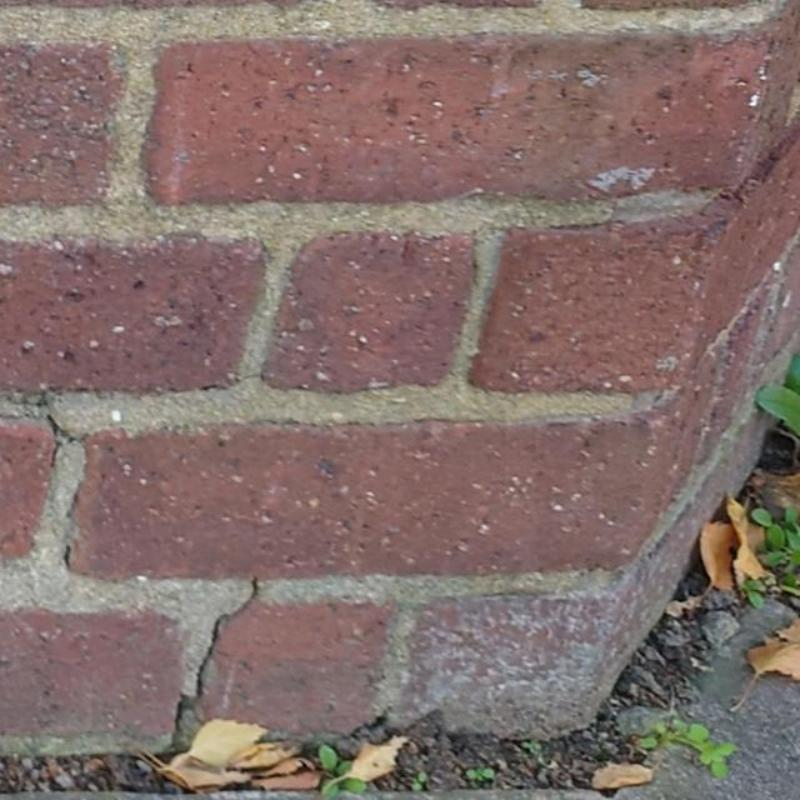pothole: (176, 576, 260, 733), (45, 414, 88, 469), (63, 540, 72, 571)
